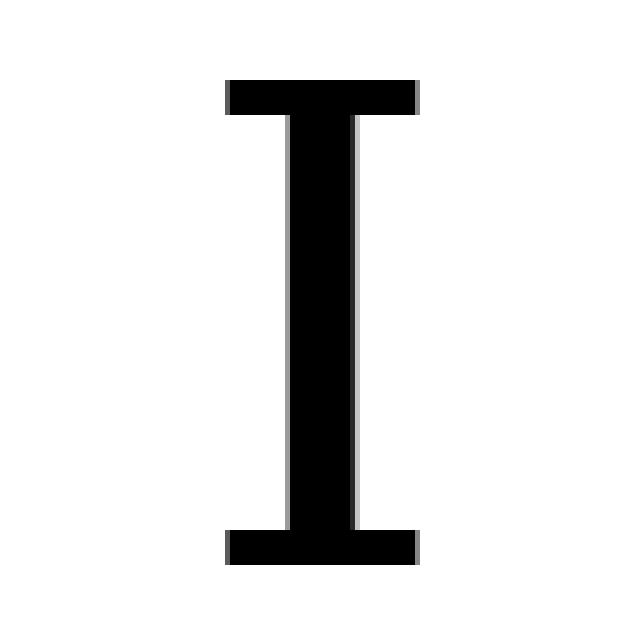I: (215, 70, 425, 570)
